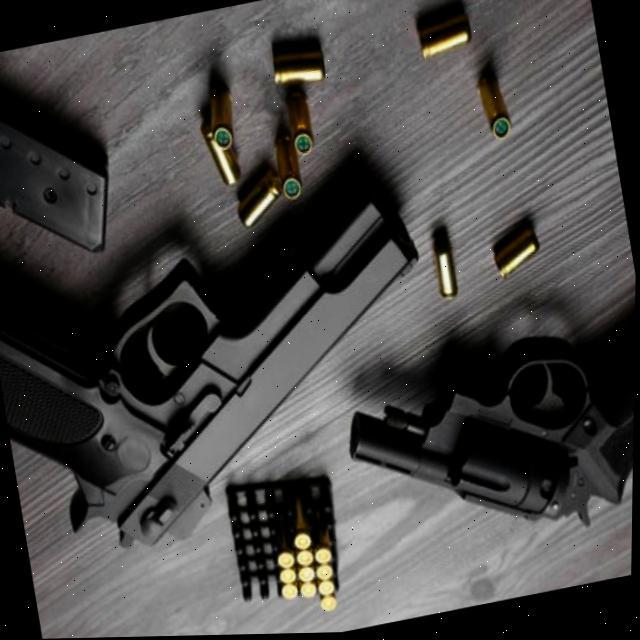gun: (0, 177, 460, 572), (339, 317, 636, 574)
